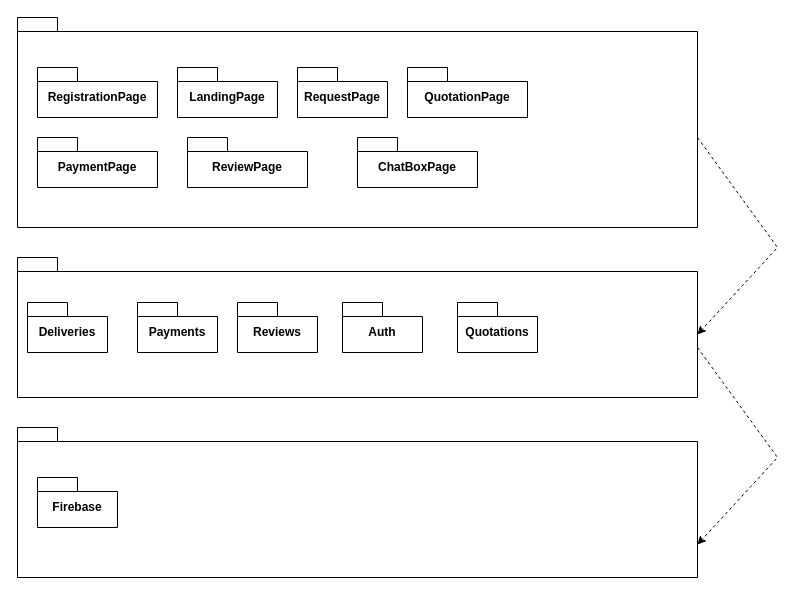
Some shapes in this 803 by 595 pixel diagram are drawn without their labels. Each missing label, with the box of its shape:
Domain: (16, 256, 698, 398)
Technical Services: (16, 426, 698, 578)
UI: (16, 16, 698, 228)
